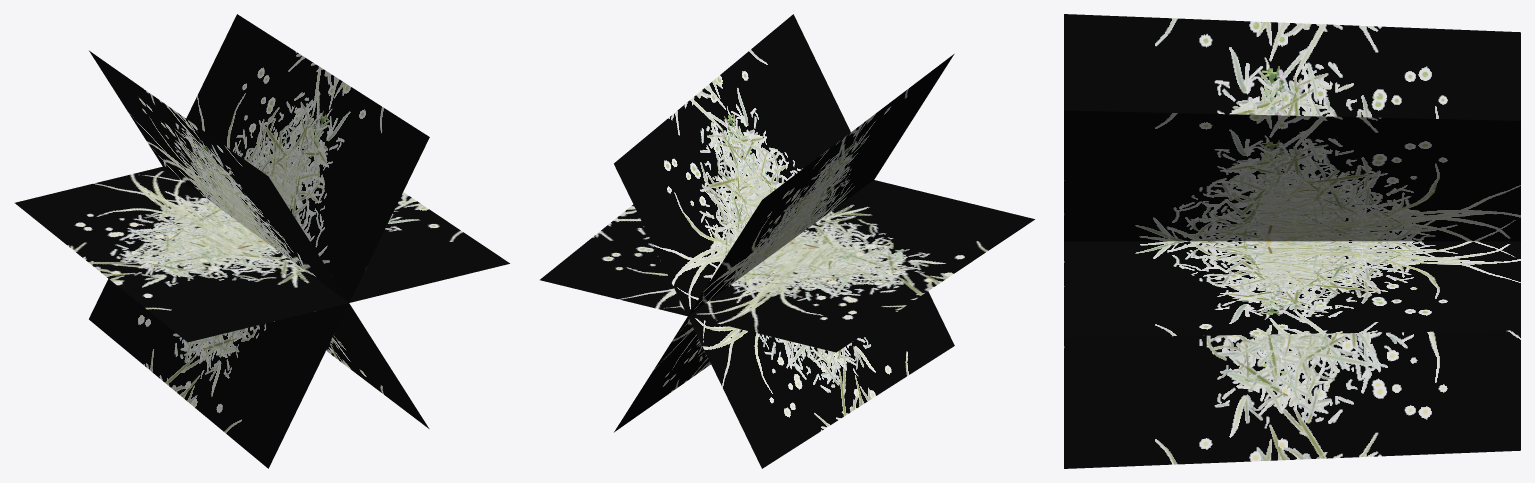
File: GrassCard_Dead.glb
The picture shows the model from 3 angles, left to right: view 1: azimuth 30°, elevation 25°; view 2: azimuth 150°, elevation 25°; view 3: azimuth 270°, elevation 25°; orthographic projection. The views are drawn at different scales.
Visible parts, largest first — view 1: GrassCard_Dead; view 2: GrassCard_Dead; view 3: GrassCard_Dead.
Part boxes in pixels (<box>): GrassCard_Dead: <box>15,14,509,468</box>; GrassCard_Dead: <box>540,14,1034,468</box>; GrassCard_Dead: <box>1064,14,1520,468</box>.
Bounding box in the file's own units: 0.25 × 0.2165 × 0.25.
Materials: 1 (1 with a texture image).
